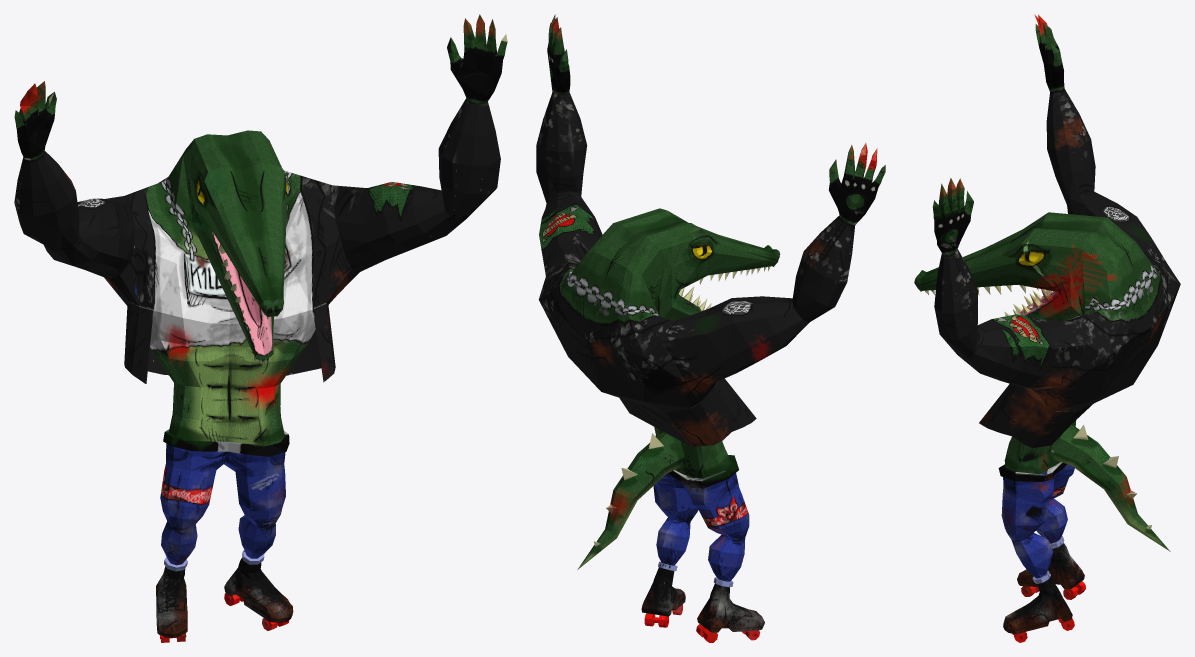
Rendered from cocodrilaBonesSelect_000004.obj.
3 renders of one model, left to right at view 1: azimuth 30°, elevation 25°; view 2: azimuth 150°, elevation 25°; view 3: azimuth 270°, elevation 25°, orthographic. The views are drawn at different scales.
Visible parts, largest first — view 1: Crocodile.002_Cylinder.002; view 2: Crocodile.002_Cylinder.002; view 3: Crocodile.002_Cylinder.002.
Part boxes in pixels (x1,y1,x2,y2): Crocodile.002_Cylinder.002: (14, 14, 507, 642); Crocodile.002_Cylinder.002: (536, 14, 885, 642); Crocodile.002_Cylinder.002: (914, 14, 1180, 642).
Size of the model in its own units: 6.35 by 8.36 by 3.79.
